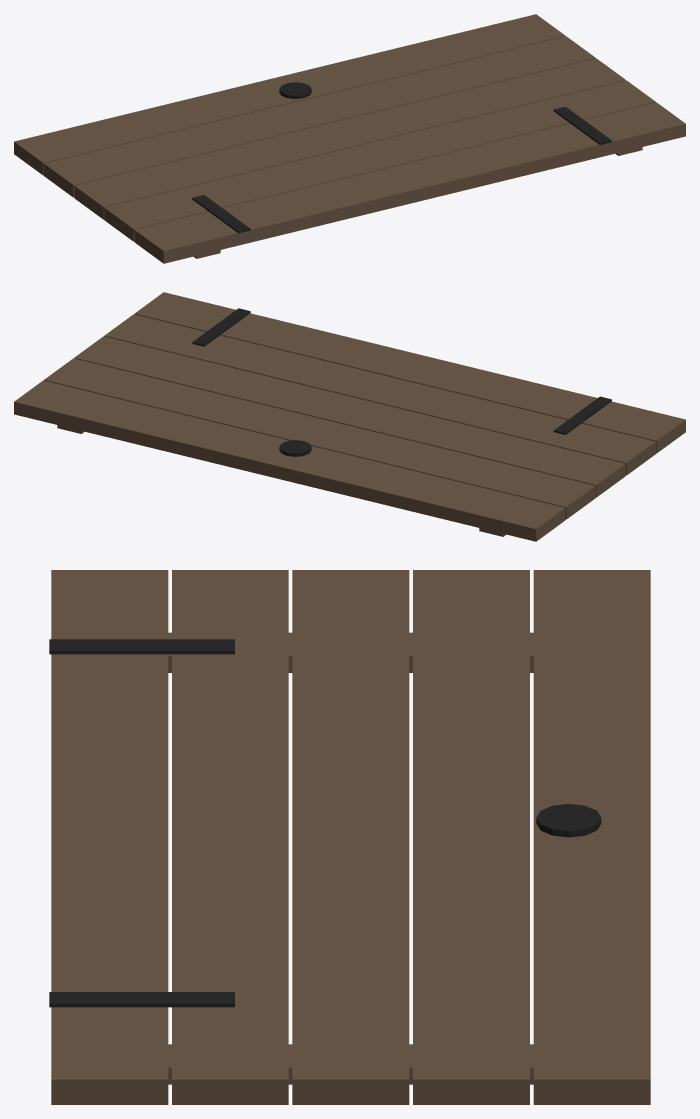
Rendered from SM_Kapi_Kapak.fbx.
3 views of the same model, one above another, from view 1: azimuth 30°, elevation 25°; view 2: azimuth 150°, elevation 25°; view 3: azimuth 270°, elevation 25° (orthographic). The views are drawn at different scales.
Parts seen in each view (by area): view 1: Kapi_Kapak; view 2: Kapi_Kapak; view 3: Kapi_Kapak.
Part boxes in pixels (bbox=[...]): Kapi_Kapak: bbox=[14, 14, 685, 263]; Kapi_Kapak: bbox=[14, 292, 685, 541]; Kapi_Kapak: bbox=[49, 570, 650, 1104].
Size of the model in its own units: 260 by 11.75 by 130.
